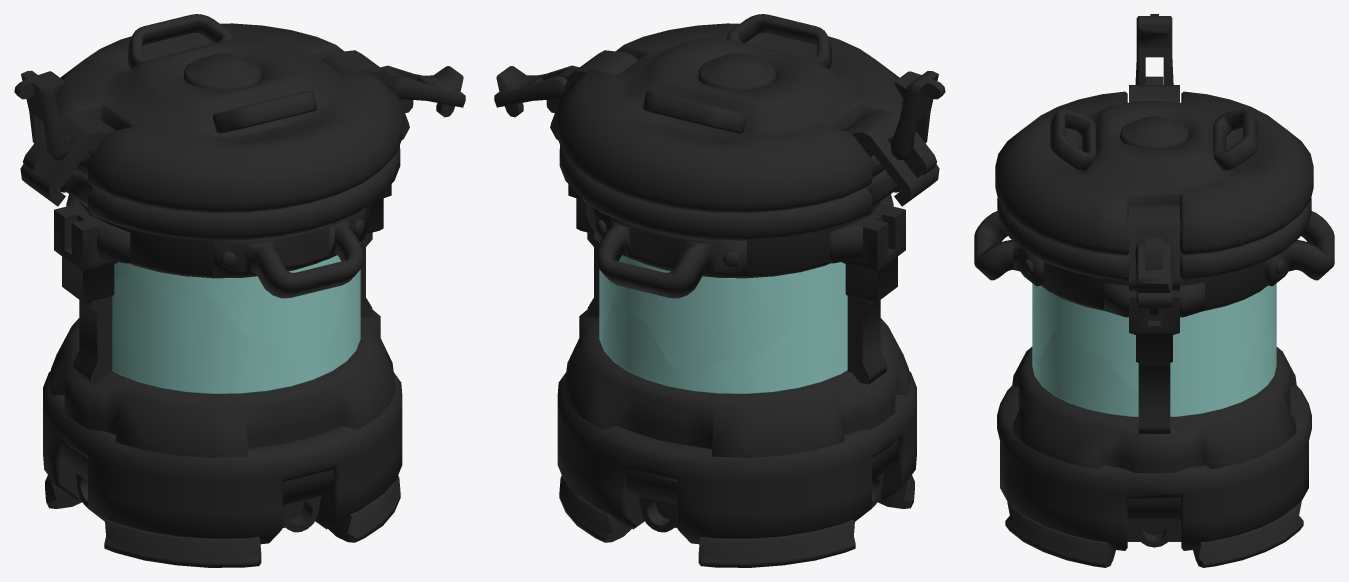
The model's file is Barrel_Scifi_A_Shatter.fbx.
3 views of the same model, side by side, from view 1: azimuth 30°, elevation 25°; view 2: azimuth 150°, elevation 25°; view 3: azimuth 270°, elevation 25° (orthographic). The views are drawn at different scales.
Visible parts, largest first — view 1: Geometry_Barrel_Scifi_A_Shatter_Base_LOD00, Geometry_Barrel_Scifi_A_Shatter_Lid_A_LOD00, Geometry_Barrel_Scifi_A_Shatter_Top_LOD00; view 2: Geometry_Barrel_Scifi_A_Shatter_Base_LOD00, Geometry_Barrel_Scifi_A_Shatter_Lid_A_LOD00, Geometry_Barrel_Scifi_A_Shatter_Top_LOD00; view 3: Geometry_Barrel_Scifi_A_Shatter_Base_LOD00, Geometry_Barrel_Scifi_A_Shatter_Lid_A_LOD00, Geometry_Barrel_Scifi_A_Shatter_Top_LOD00.
Boxes of the visible parts, x1,y1,x2,y2 form: Geometry_Barrel_Scifi_A_Shatter_Base_LOD00: [43, 274, 402, 567]; Geometry_Barrel_Scifi_A_Shatter_Lid_A_LOD00: [14, 14, 465, 212]; Geometry_Barrel_Scifi_A_Shatter_Top_LOD00: [54, 145, 400, 384]; Geometry_Barrel_Scifi_A_Shatter_Base_LOD00: [557, 301, 916, 567]; Geometry_Barrel_Scifi_A_Shatter_Lid_A_LOD00: [494, 14, 945, 212]; Geometry_Barrel_Scifi_A_Shatter_Top_LOD00: [559, 145, 905, 384]; Geometry_Barrel_Scifi_A_Shatter_Base_LOD00: [997, 327, 1311, 567]; Geometry_Barrel_Scifi_A_Shatter_Lid_A_LOD00: [995, 14, 1313, 315]; Geometry_Barrel_Scifi_A_Shatter_Top_LOD00: [974, 198, 1334, 433].
Size of what is drawn, in the model's own units: 168 by 135 by 168.
